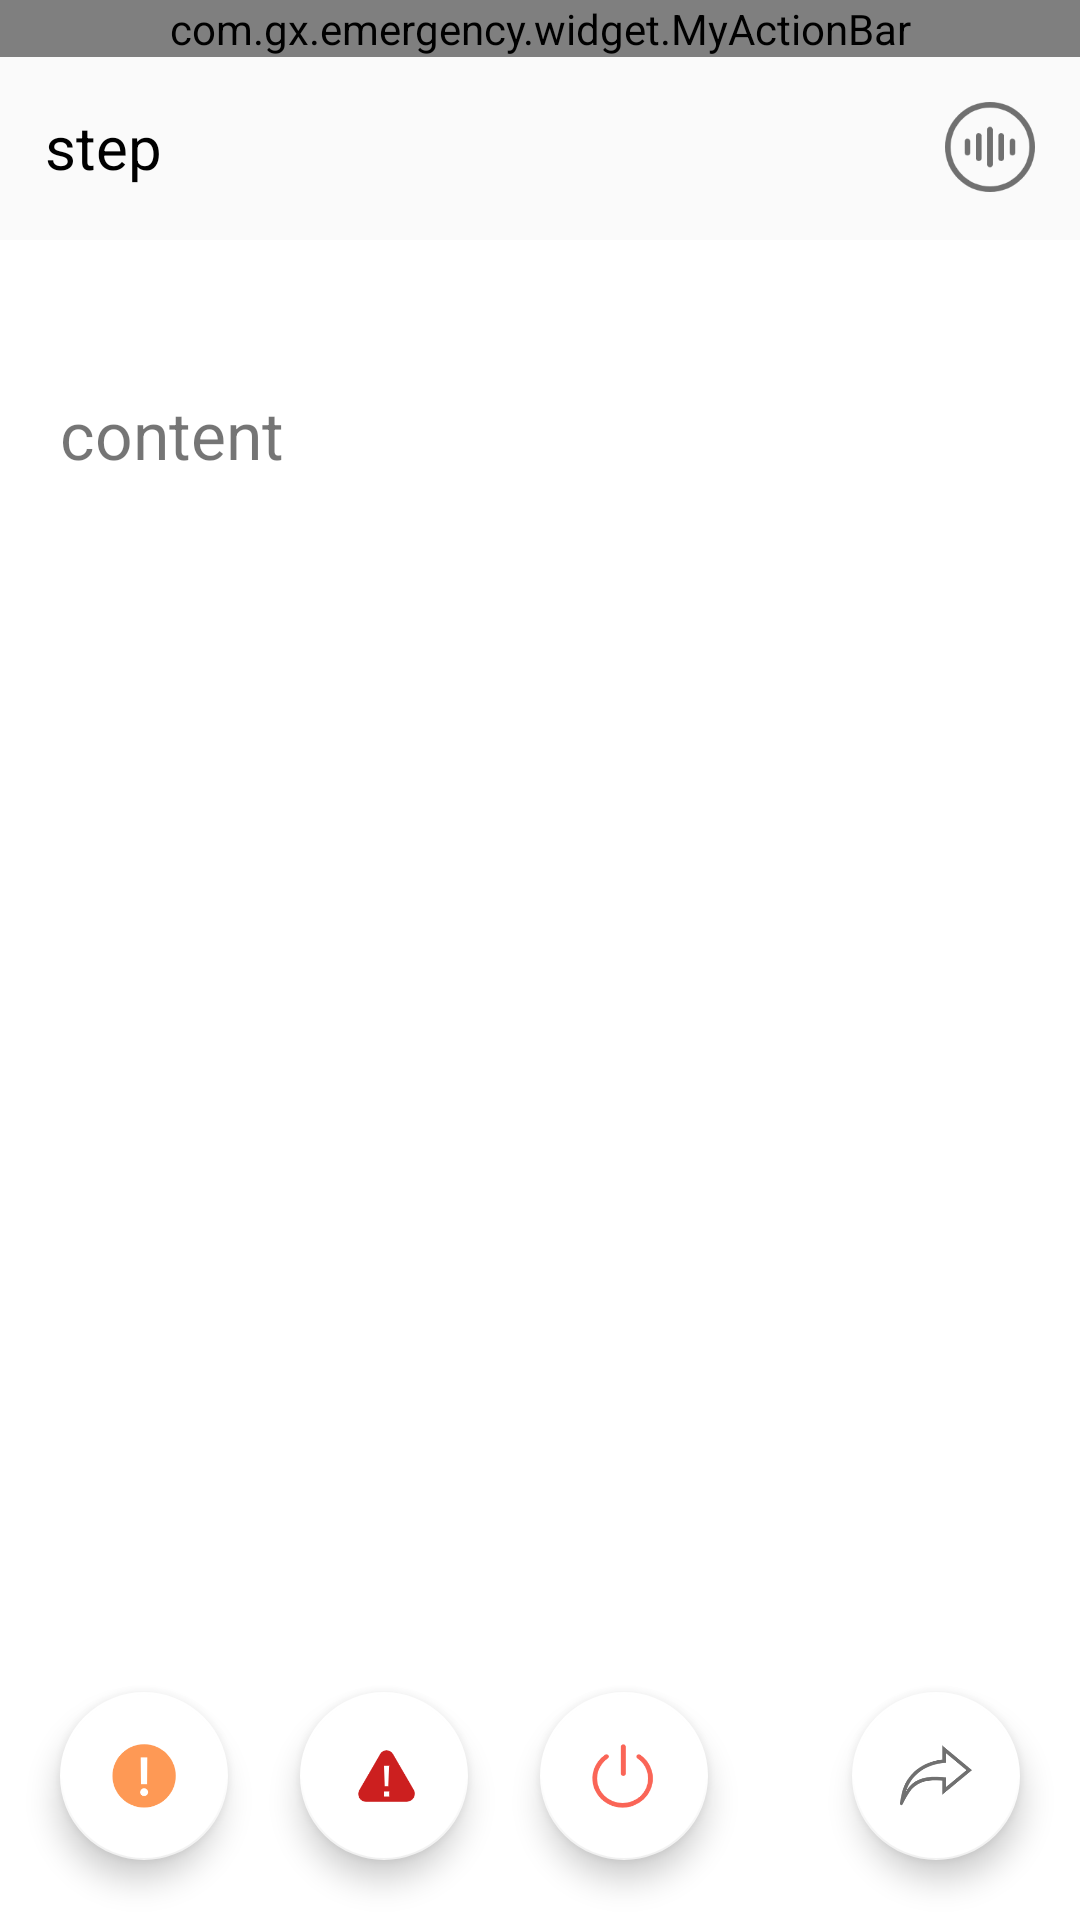

Icons on this 1080*1920 Android screen, each with its box as (x1, y1, x2, y2):
notice: (112, 1744, 223, 1810)
voice broadcast: (945, 102, 1035, 192)
